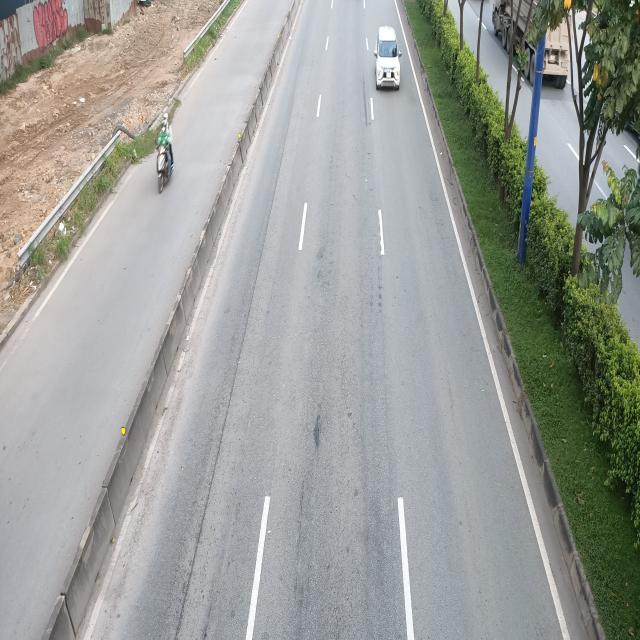car: (372, 27, 399, 90)
